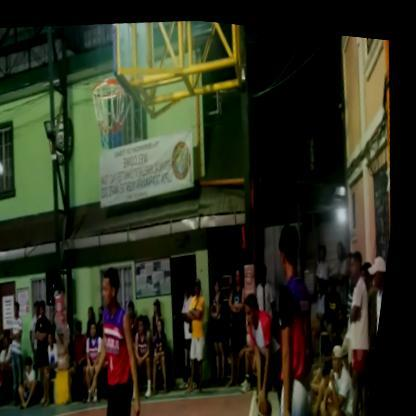basketball: (263, 383, 286, 416)
rim: (82, 60, 147, 157)
